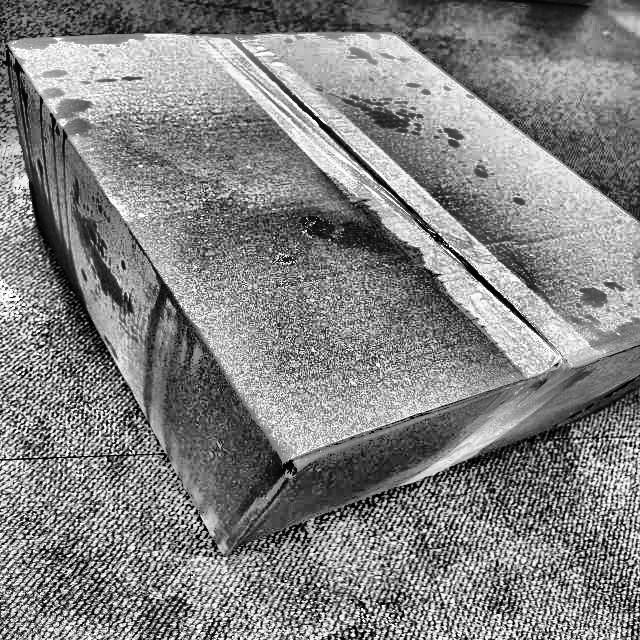box: (0, 19, 640, 566)
wet: (141, 215, 507, 558)
